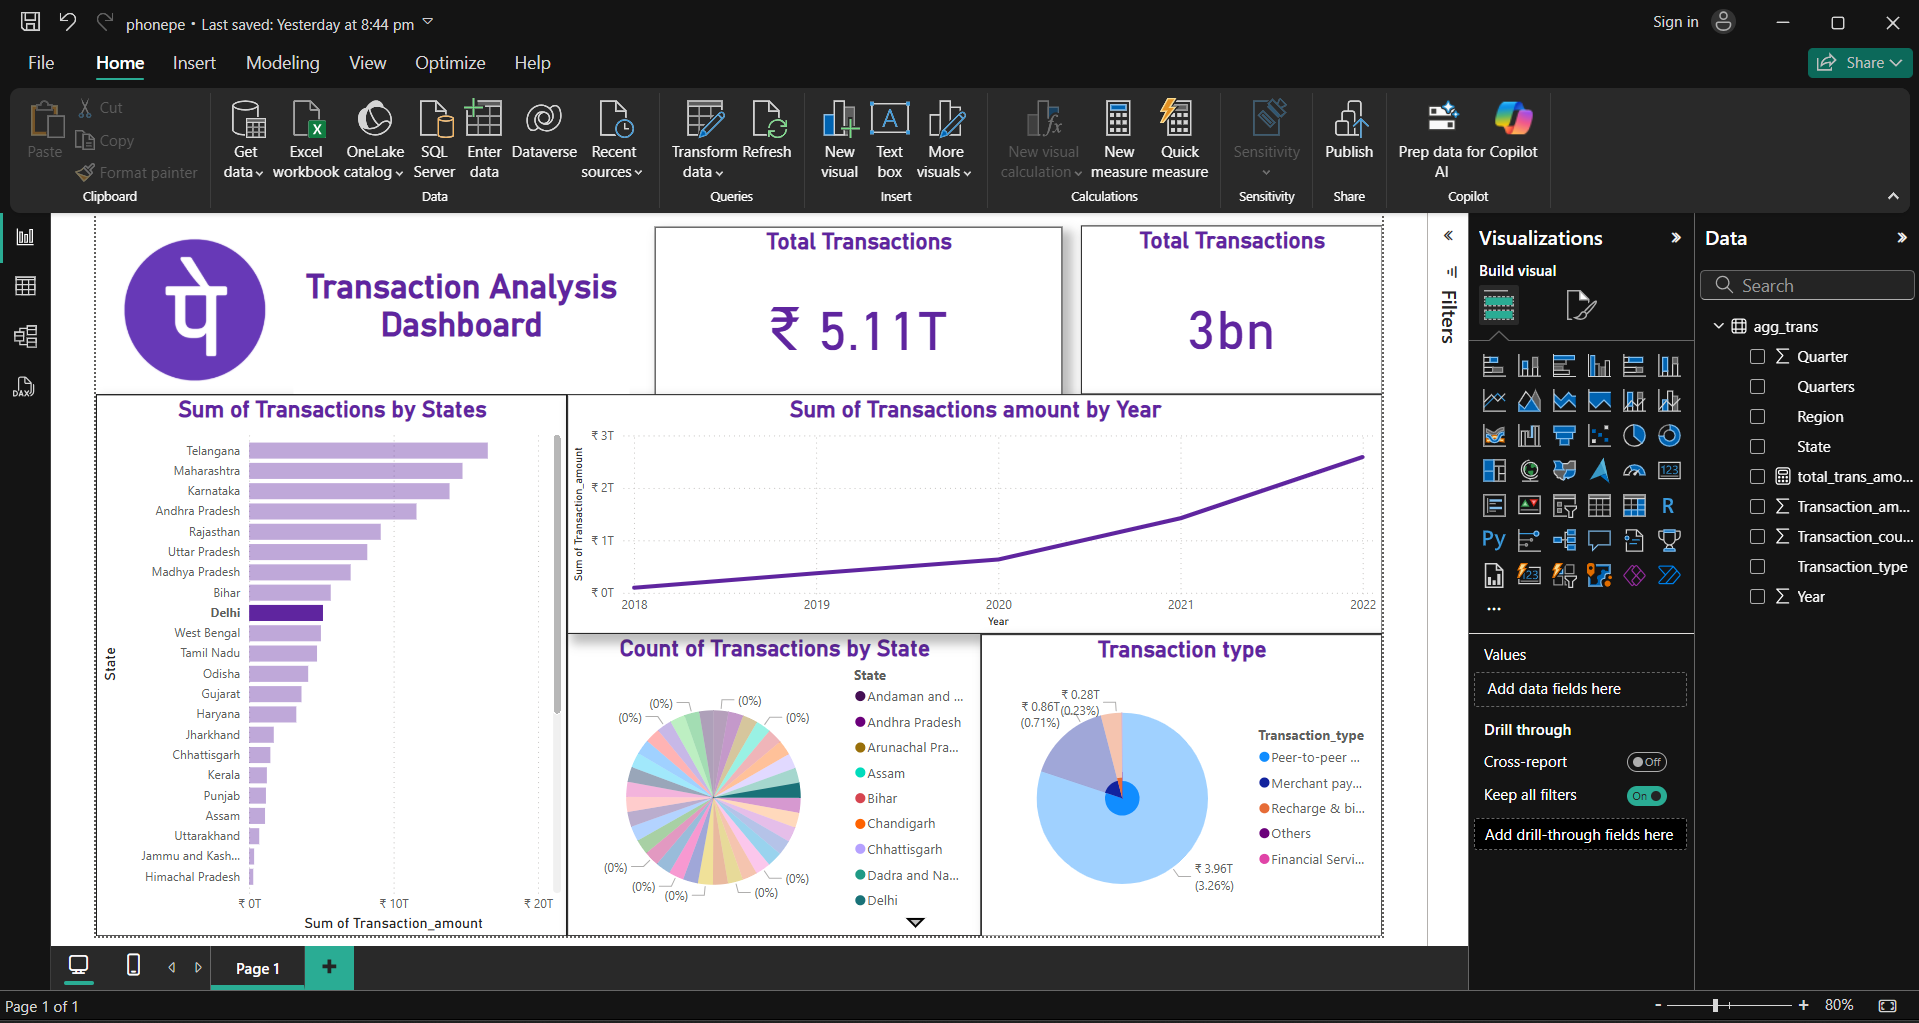

This screenshot's page, from the dashboard's own definition file:
{"tool":"powerbi","page":{"name":"Page 1","canvas":[1280,720],"ordinal":0},"visuals":[{"type":"card","title":"Total Transactions","fields":{"Values":["agg_trans.total_trans_amount"]},"box":[556,13.7,405.5,167.9],"z":0},{"type":"card","title":"Total Transactions","fields":{"Values":["Sum(agg_trans.Transaction_count)"]},"box":[980.2,12.4,299.8,167.9],"z":1000},{"type":"barChart","title":"Sum of Transactions by States","fields":{"Category":["agg_trans.State"],"Y":["Sum(agg_trans.Transaction_amount)"]},"box":[0,179.8,469.3,540.7],"z":2000},{"type":"pieChart","title":"Count of Transactions by State","fields":{"Category":["agg_trans.State"],"Y":["CountNonNull(agg_trans.Transaction_type)"]},"box":[469.3,418.5,411.7,301.9],"z":3000},{"type":"lineChart","title":"Sum of Transactions amount by Year","fields":{"Y":["Sum(agg_trans.Transaction_amount)"],"Category":["agg_trans.Year"]},"box":[469.3,179.8,811,238.8],"z":4000},{"type":"pieChart","title":"Transaction type","fields":{"Category":["agg_trans.Transaction_type"],"Y":["Sum(agg_trans.Transaction_amount)"]},"box":[881,419,399,301],"z":5000},{"type":"image","box":[0,12.4,196.5,167.9],"z":6000},{"type":"textbox","box":[196.5,13.7,334.6,166.7],"z":7000}]}

Visuals, with their boxes in screenshot pixels (x1, y1, x2, y2):
"Total Transactions" card: x1=797, y1=0, x2=1346, y2=211
"Total Transactions" card: x1=1372, y1=0, x2=1777, y2=209
"Sum of Transactions by States" barChart: x1=45, y1=208, x2=680, y2=940
"Count of Transactions by State" pieChart: x1=680, y1=531, x2=1237, y2=940
"Sum of Transactions amount by Year" lineChart: x1=680, y1=208, x2=1778, y2=532
"Transaction type" pieChart: x1=1237, y1=532, x2=1777, y2=940
image: x1=45, y1=0, x2=311, y2=209
textbox: x1=311, y1=0, x2=764, y2=209
